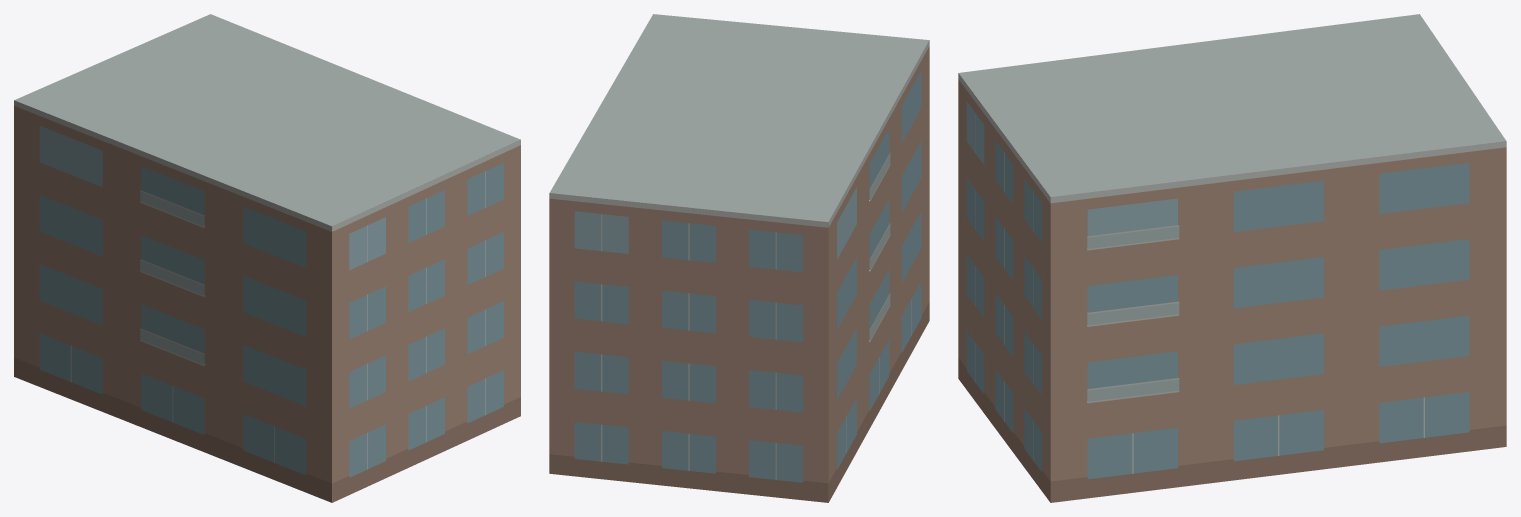
Rendered from survey-upis-32696768.glb.
3 renders of one model, left to right at view 1: azimuth 30°, elevation 25°; view 2: azimuth 150°, elevation 25°; view 3: azimuth 270°, elevation 25°, orthographic. The views are drawn at different scales.
Visible parts, largest first — view 1: survey-upis-32696768.tmp; view 2: survey-upis-32696768.tmp; view 3: survey-upis-32696768.tmp.
Boxes of the visible parts, box(x1,y1,x2,y2) form: survey-upis-32696768.tmp: box(14, 14, 520, 502); survey-upis-32696768.tmp: box(549, 14, 929, 502); survey-upis-32696768.tmp: box(958, 14, 1506, 502).
Size of the model in its own units: 15.69 by 12.2 by 19.84.
